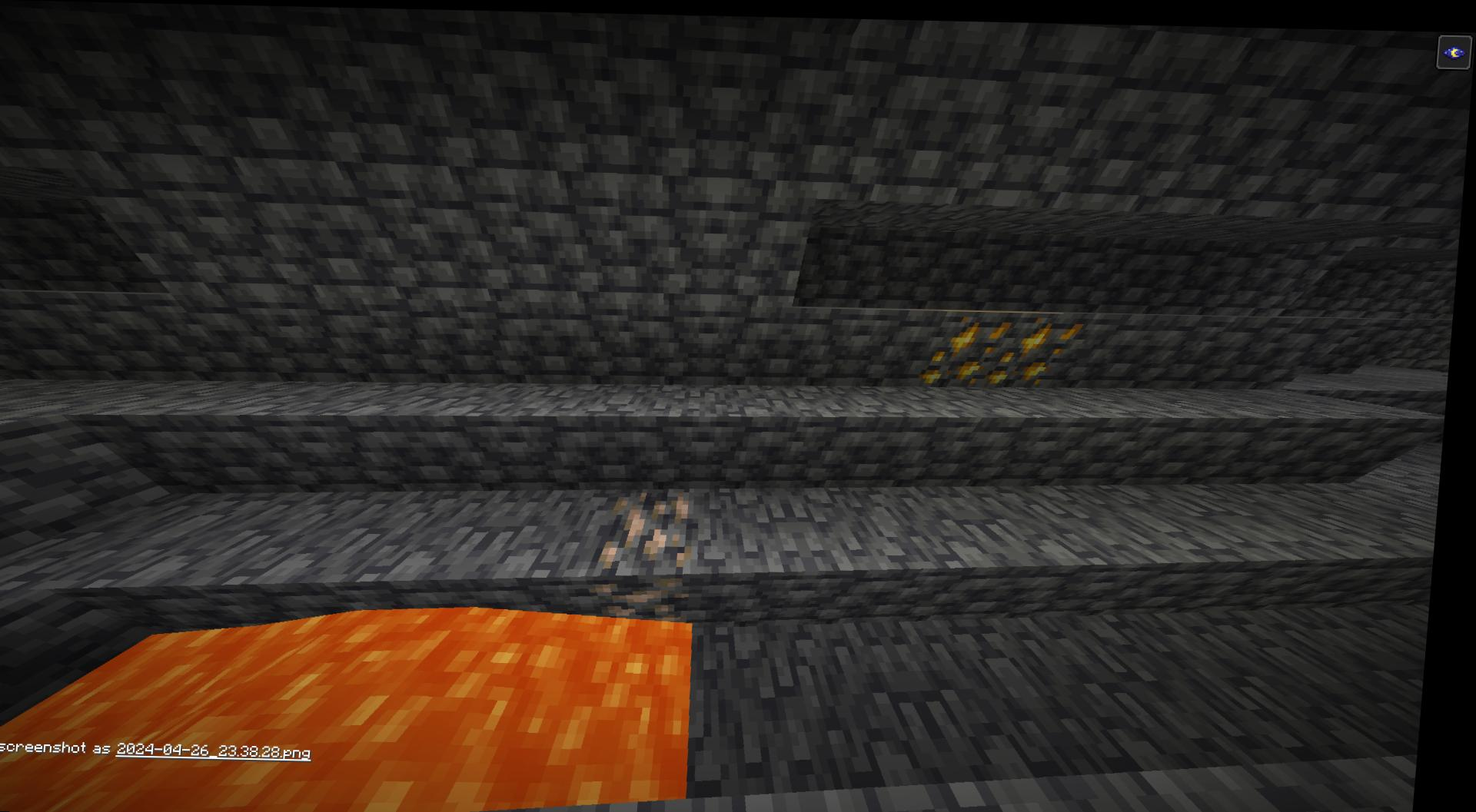gold ore: (925, 307, 1016, 389), (1007, 307, 1084, 384)
iron ore: (589, 484, 710, 618)
